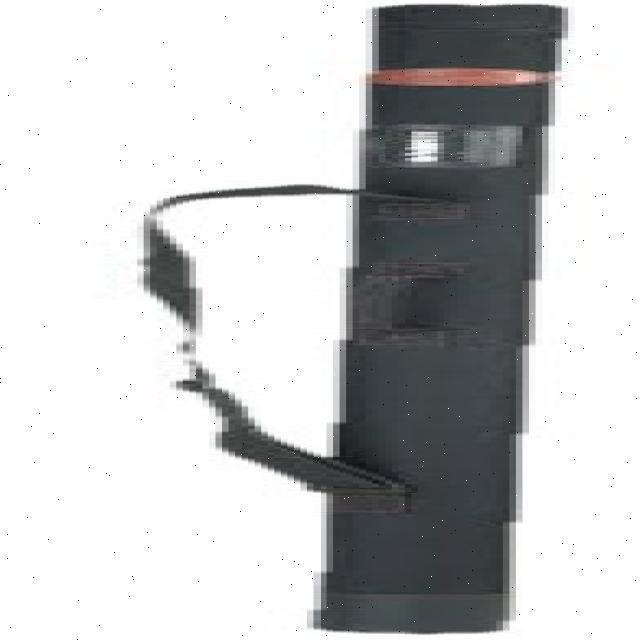bazooka: (272, 1, 609, 635)
